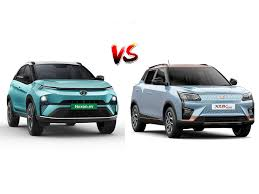Tata Nexon: (5, 61, 117, 136)
